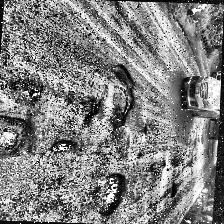pothole: (98, 62, 142, 130), (91, 171, 133, 217), (0, 113, 36, 156)
